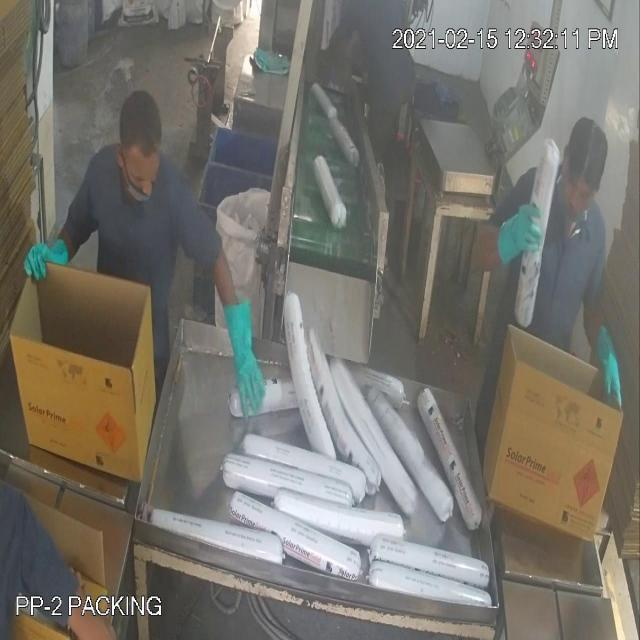Gloves: (32, 70, 608, 367)
